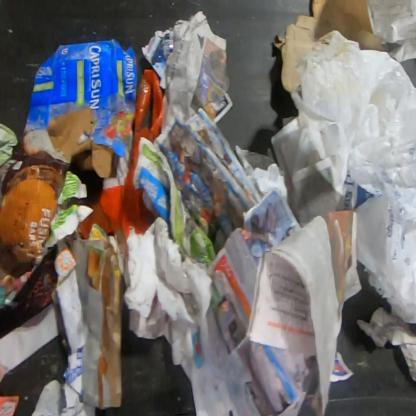cardboard: (22, 40, 138, 180), (0, 129, 71, 308), (272, 0, 387, 91)
soft_plastic: (291, 28, 415, 325), (79, 69, 164, 240)
